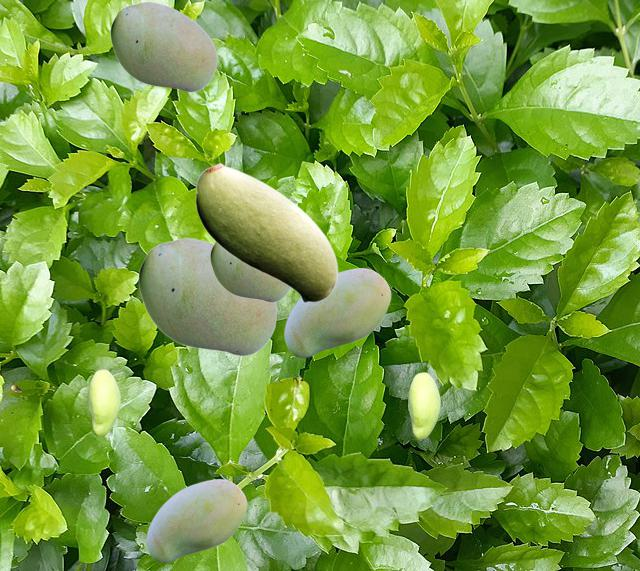green_mango: (195, 162, 337, 302), (138, 237, 276, 355), (110, 1, 216, 91), (284, 268, 390, 356), (146, 479, 246, 561), (210, 242, 290, 301), (88, 369, 119, 435), (408, 372, 439, 438)
